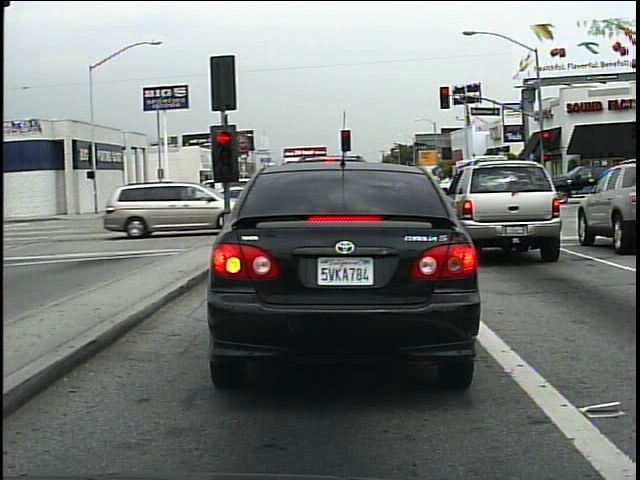person: (158, 178, 181, 216)
